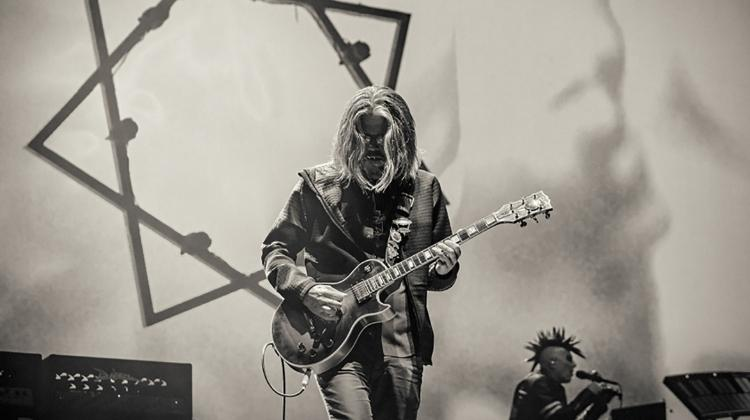acousticguitar: (271, 187, 551, 382)
